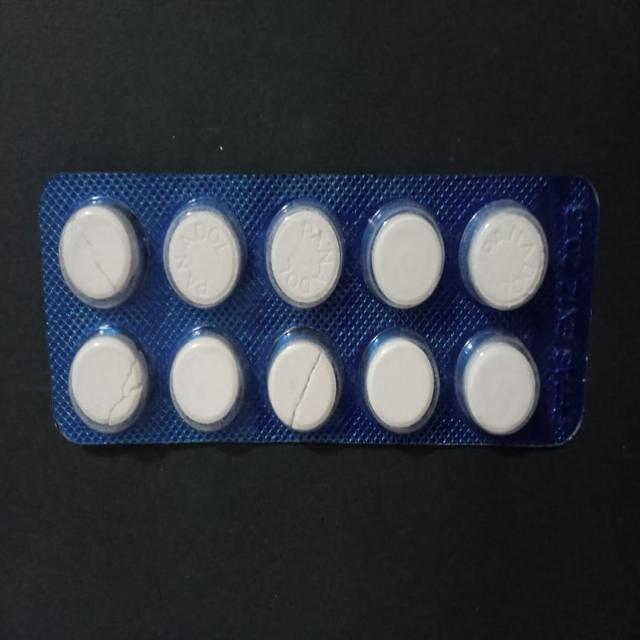defect: (55, 192, 149, 312), (66, 326, 153, 438), (264, 326, 345, 439)
